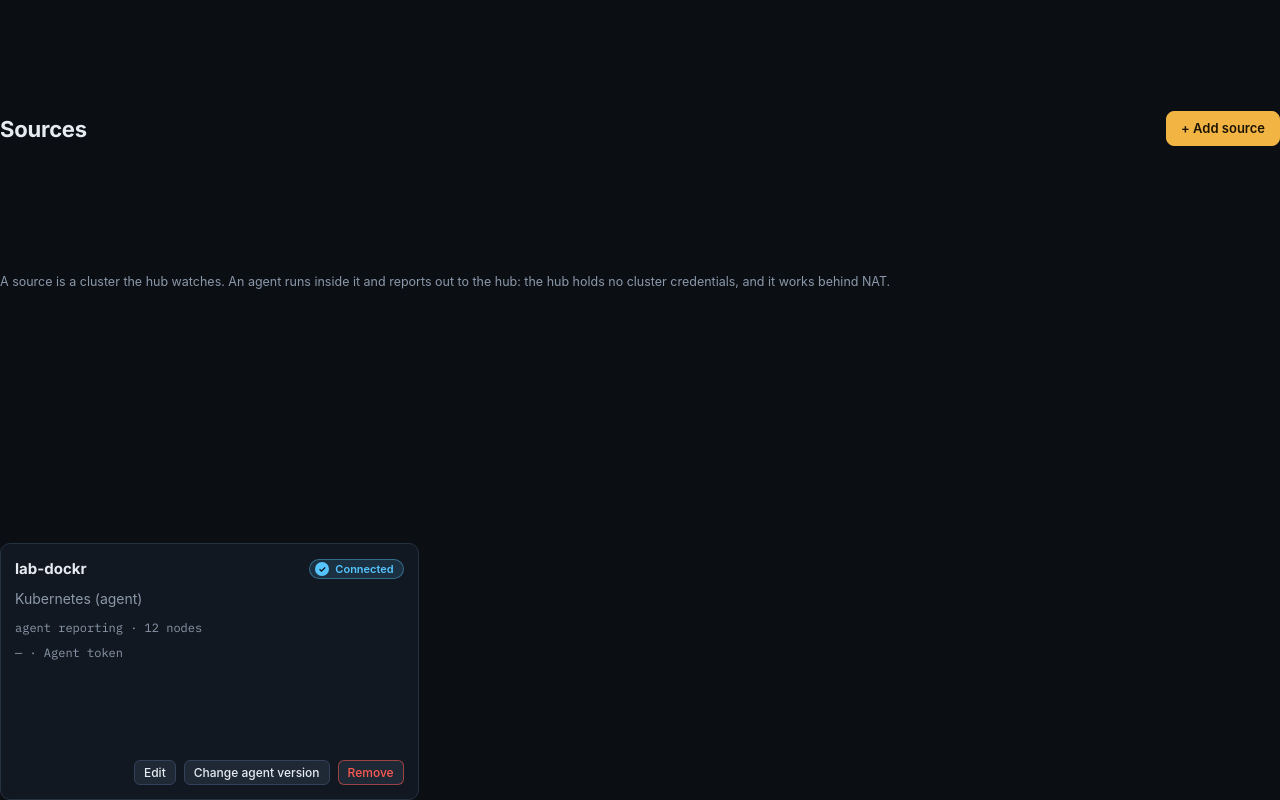
the sources page › says why a name is refused and leaves the dialog open
Click the button "Edit" at (155, 772), box [134,760,176,785]
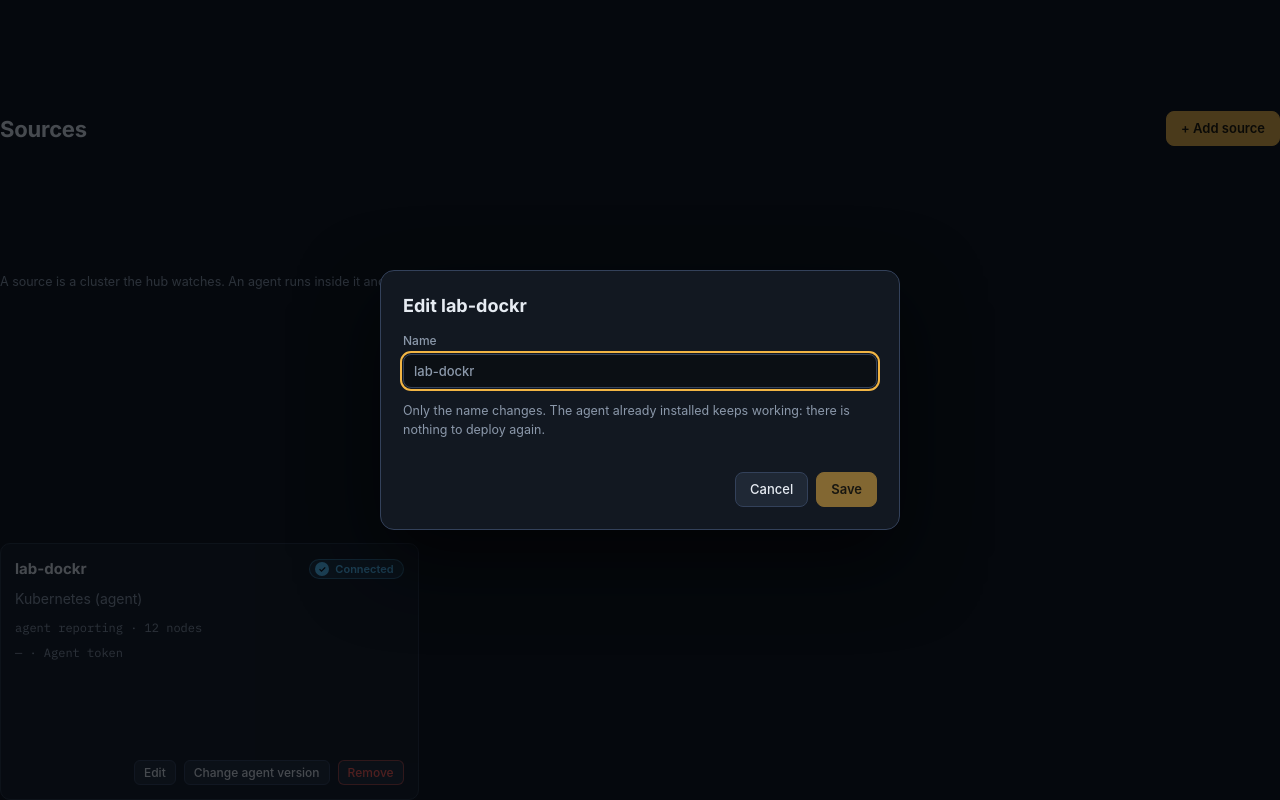
Type "2" into the field labelled "Name" at (640, 371), box [403,354,877,388]
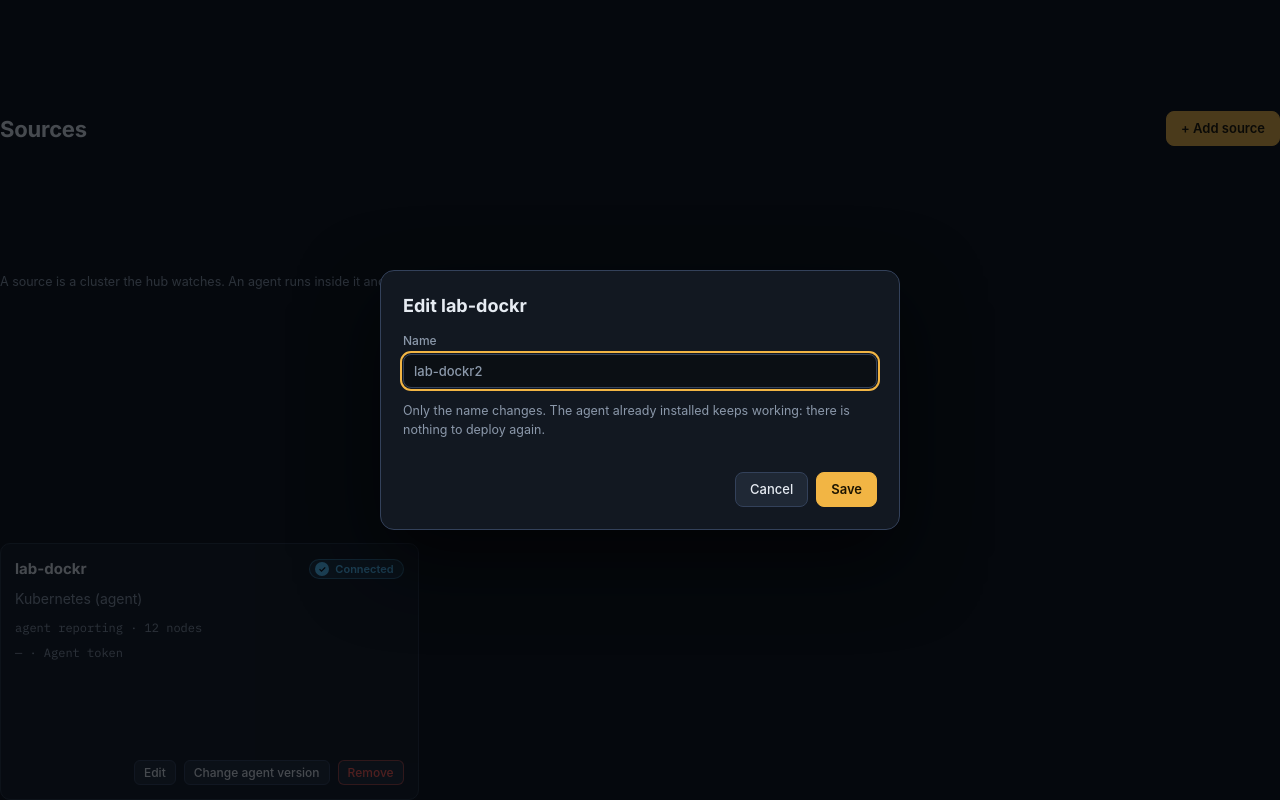
Click the button "Save" at (847, 489), box [816,472,877,507]
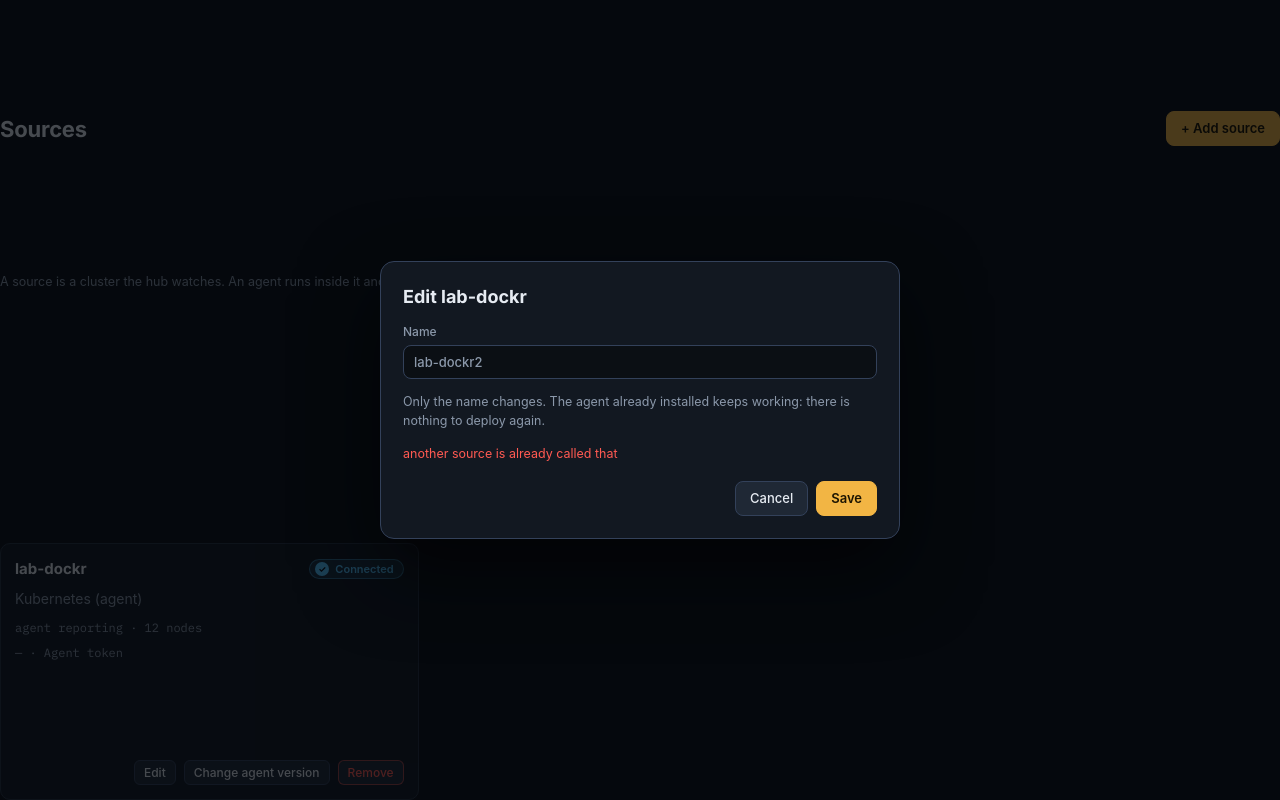
Result: the text "another source is already called that" is shown at [403,446,618,461]
